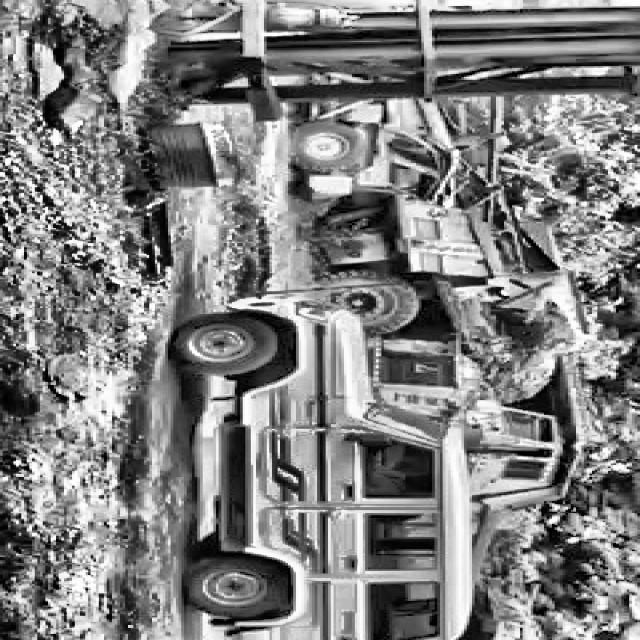light_vehicle: (184, 284, 488, 640)
